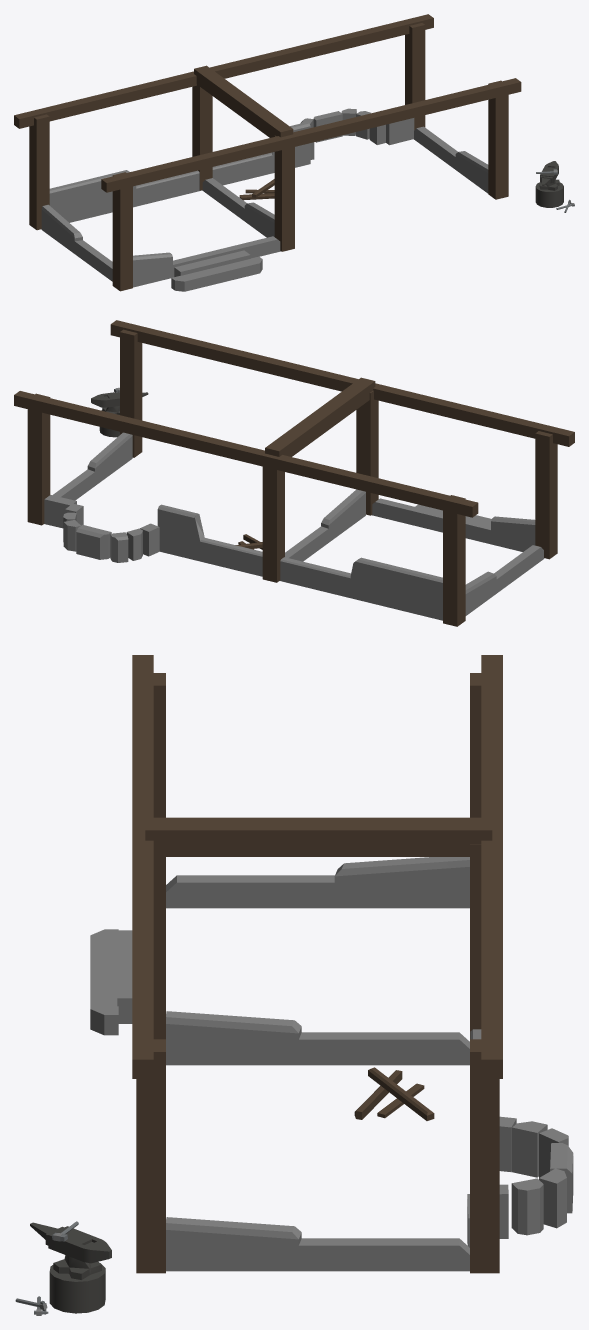
Rendered from BlacksmithInProgressTriangulated.fbx.
3 renders of one model, top to bottom at view 1: azimuth 30°, elevation 25°; view 2: azimuth 150°, elevation 25°; view 3: azimuth 270°, elevation 25°, orthographic. The views are drawn at different scales.
Visible parts, largest first — view 1: BlacksmithInProgressTriangulated; view 2: BlacksmithInProgressTriangulated; view 3: BlacksmithInProgressTriangulated.
Boxes of the visible parts, box(x1,y1,x2,y2) form: BlacksmithInProgressTriangulated: box(14, 14, 574, 291); BlacksmithInProgressTriangulated: box(14, 320, 574, 626); BlacksmithInProgressTriangulated: box(15, 655, 573, 1315).
Size of the model in its own units: 36.23 by 9.56 by 19.69.
1 material, 1 textured.
